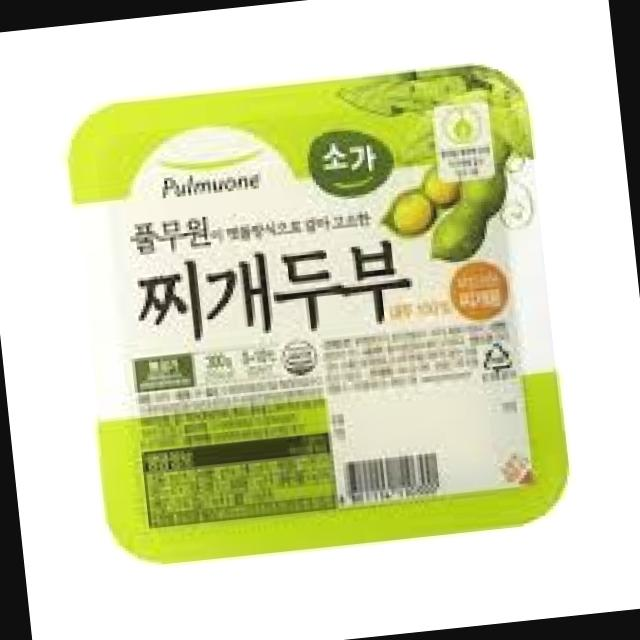tof: (43, 40, 596, 587)
